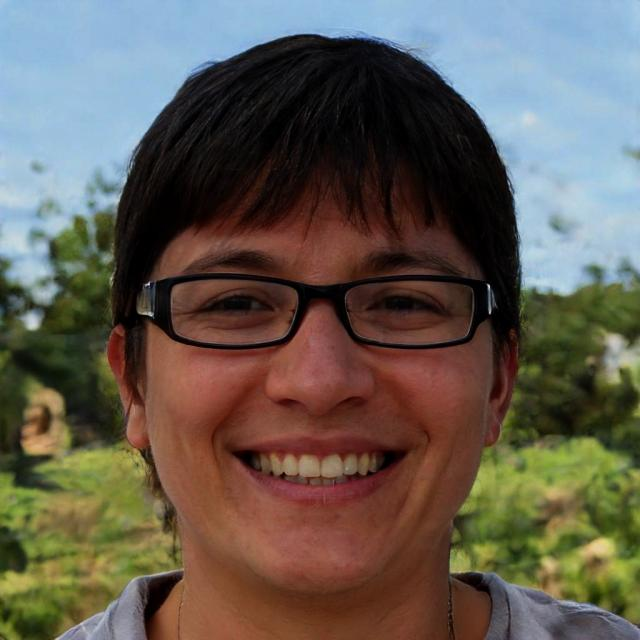lens: (172, 279, 298, 346), (344, 281, 474, 345)
